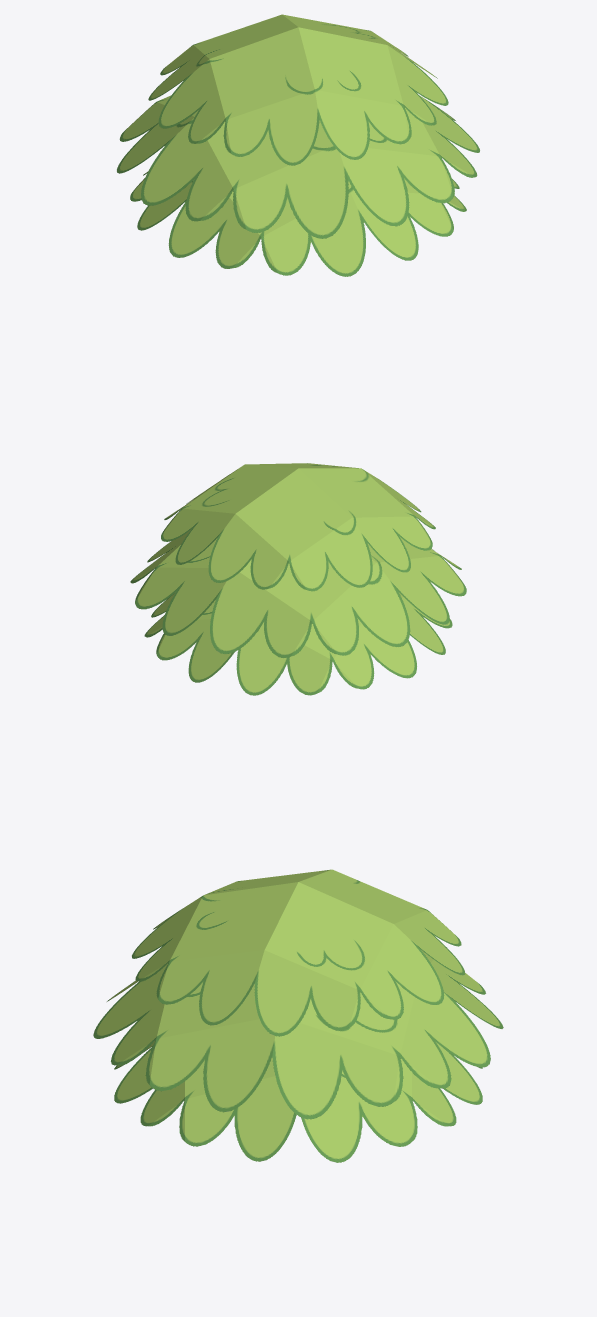
The model's file is George (no leaflets).fbx.
3 renders of one model, top to bottom at view 1: azimuth 30°, elevation 25°; view 2: azimuth 150°, elevation 25°; view 3: azimuth 270°, elevation 25°, orthographic. The views are drawn at different scales.
Parts seen in each view (by area): view 1: Bush (L).002; view 2: Bush (L).002; view 3: Bush (L).002.
Boxes of the visible parts, <box> form: Bush (L).002: <box>117,14,479,276</box>; Bush (L).002: <box>130,463,466,695</box>; Bush (L).002: <box>93,869,503,1162</box>.
Size of the model in its own units: 73.66 by 46.37 by 73.66.
